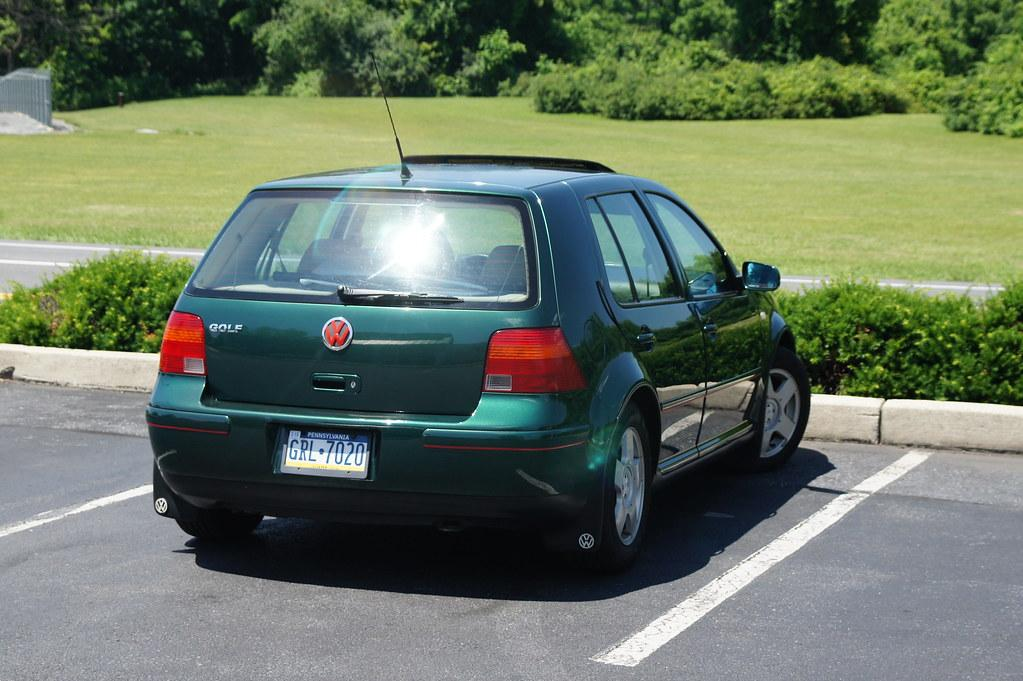car: (136, 54, 816, 582)
